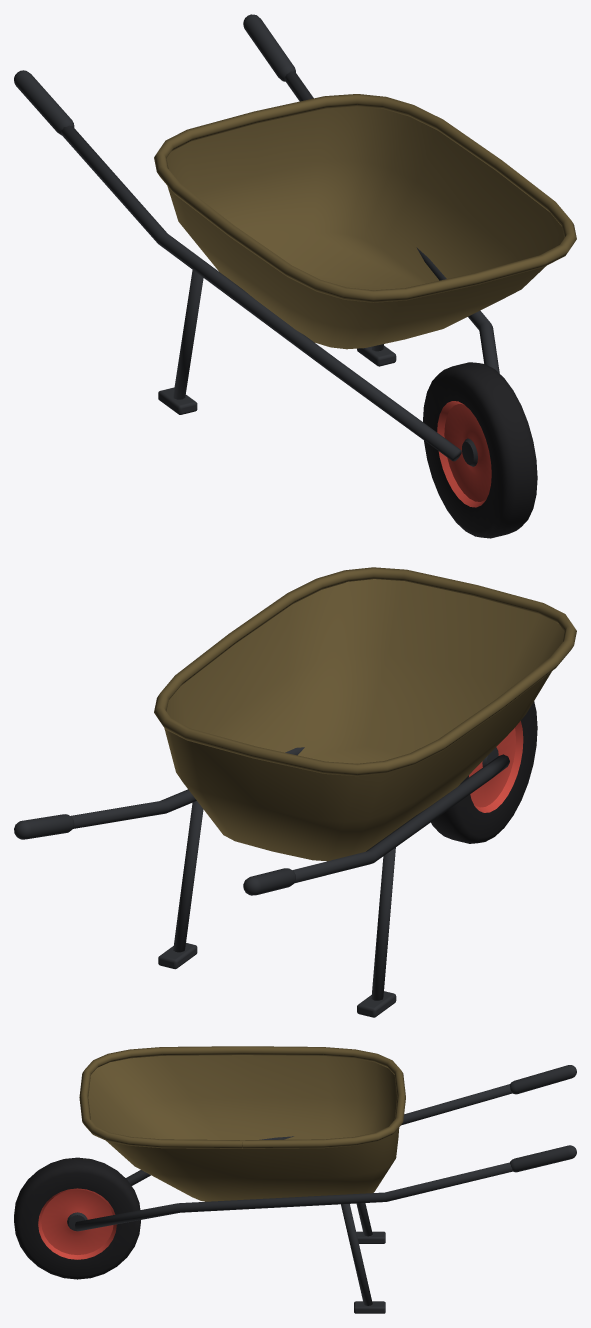
The model's file is wheelbarrow.fbx.
3 views of the same model, one above another, from view 1: azimuth 30°, elevation 25°; view 2: azimuth 150°, elevation 25°; view 3: azimuth 270°, elevation 25° (orthographic). The views are drawn at different scales.
Parts seen in each view (by area): view 1: wheelbarrow; view 2: wheelbarrow; view 3: wheelbarrow.
Part boxes in pixels (x1,y1,x2,y2): wheelbarrow: (14, 14, 576, 538); wheelbarrow: (14, 567, 576, 1017); wheelbarrow: (14, 1046, 576, 1313).
Bounding box in the file's own units: 0.728 × 0.6353 × 1.77.
